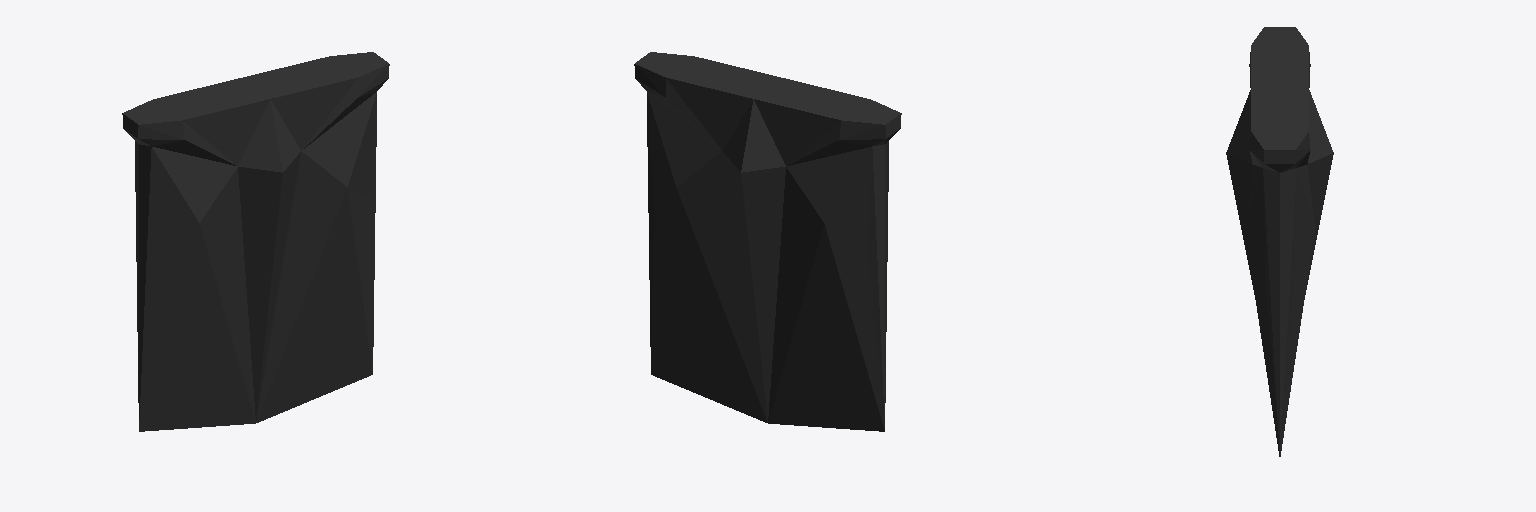
Rendered from story.obj.
3 views of the same model, side by side, from view 1: azimuth 30°, elevation 25°; view 2: azimuth 150°, elevation 25°; view 3: azimuth 270°, elevation 25° (orthographic).
Parts seen in each view (by area): view 1: Story; view 2: Story; view 3: Story.
Boxes of the visible parts, x1,y1,x2,y2 form: Story: [122, 52, 389, 431]; Story: [634, 52, 901, 431]; Story: [1226, 27, 1333, 456].
Size of the model in its own units: 2 by 2.55 by 0.743.